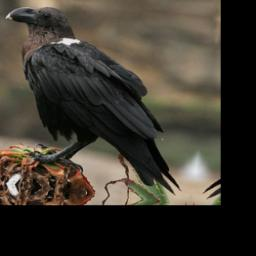Crow: (0, 1, 209, 195)
